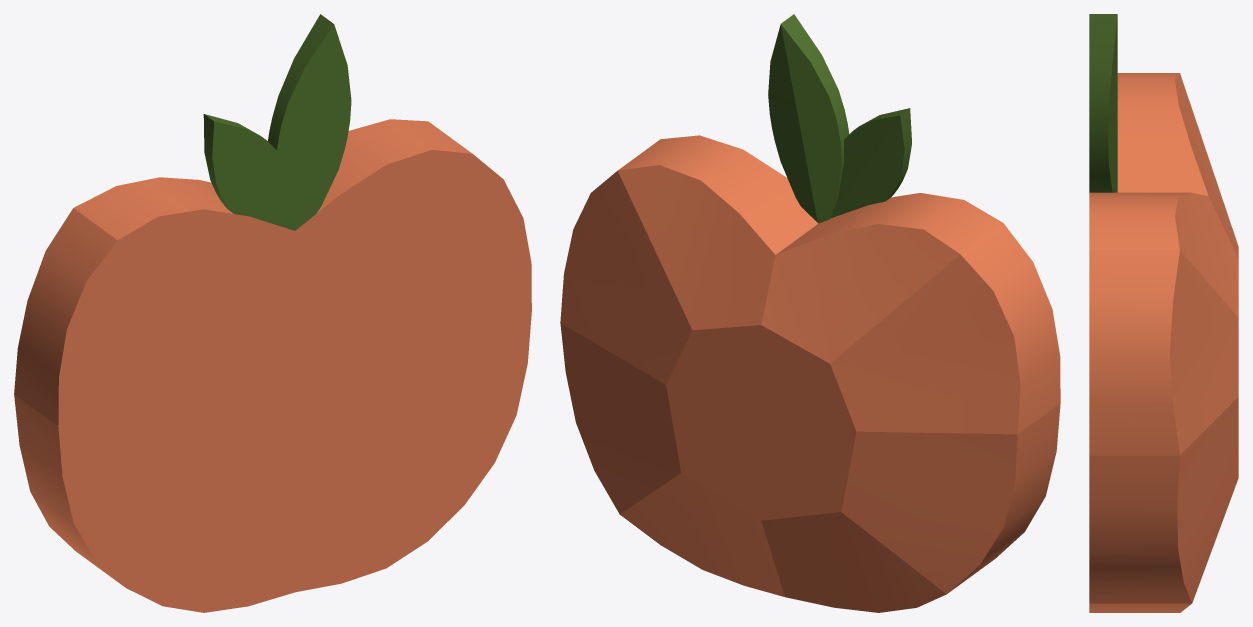
Rendered from Apple.glb.
The picture shows the model from 3 angles, left to right: view 1: azimuth 30°, elevation 25°; view 2: azimuth 150°, elevation 25°; view 3: azimuth 270°, elevation 25°; orthographic projection. The views are drawn at different scales.
Visible parts, largest first — view 1: Honesty_Honesty_0; view 2: Honesty_Honesty_0; view 3: Honesty_Honesty_0.
Part boxes in pixels (x1,y1,x2,y2): Honesty_Honesty_0: (14,14,531,612); Honesty_Honesty_0: (560,14,1060,612); Honesty_Honesty_0: (1089,14,1238,612).
Size of the model in its own units: 2.08 by 2.36 by 0.557.
Materials: 1 (1 with a texture image).
